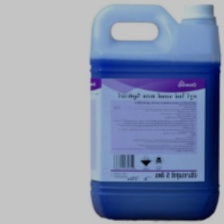cleaning_solution: (87, 1, 224, 224)
